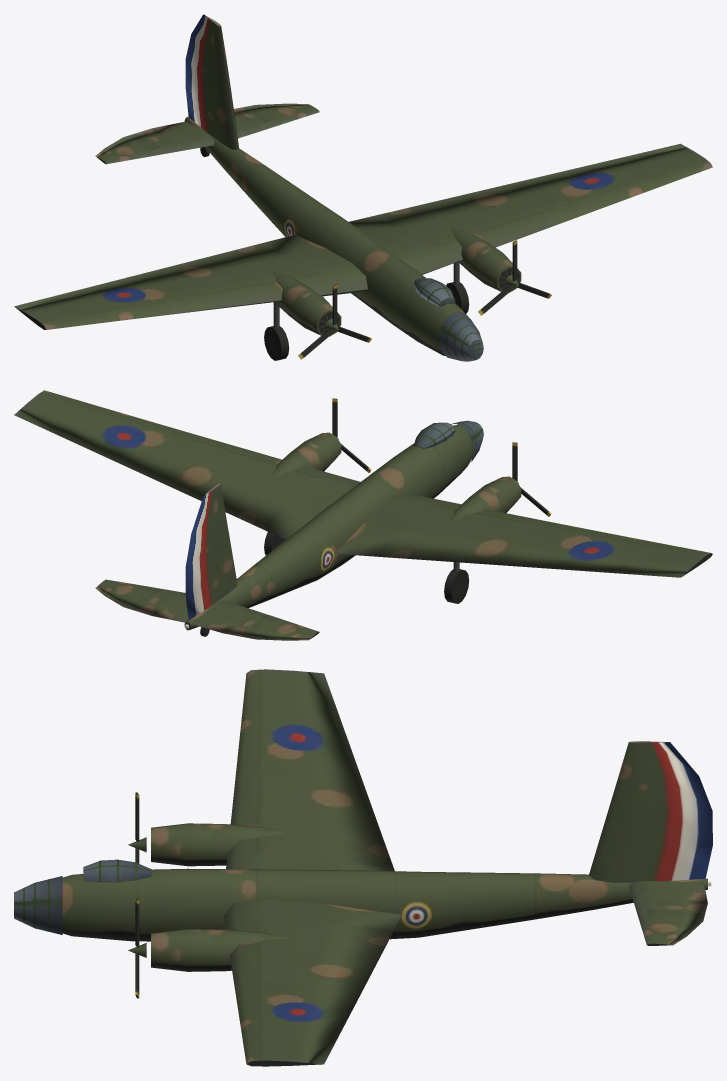
The model's file is bomber.glb.
3 views of the same model, one above another, from view 1: azimuth 30°, elevation 25°; view 2: azimuth 150°, elevation 25°; view 3: azimuth 270°, elevation 25° (orthographic). The views are drawn at different scales.
Visible parts, largest first — view 1: fuselage, prop_left_pales, prop_right_pales, wheel_right; view 2: fuselage, wheel_right, prop_right_pales, prop_left_pales; view 3: fuselage.
Boxes of the visible parts, left/top/right/bottom form: fuselage: left=14, top=14, right=712, bottom=361; prop_left_pales: left=478, top=240, right=551, bottom=315; prop_right_pales: left=298, top=284, right=371, bottom=359; wheel_right: left=264, top=326, right=289, bottom=360; fuselage: left=14, top=390, right=712, bottom=640; wheel_right: left=444, top=569, right=469, bottom=603; prop_right_pales: left=512, top=442, right=551, bottom=516; prop_left_pales: left=332, top=398, right=371, bottom=472; fuselage: left=14, top=669, right=712, bottom=1066.
Size of the model in its own units: 26.26 by 7.64 by 19.84.
5 materials, 5 textured.
